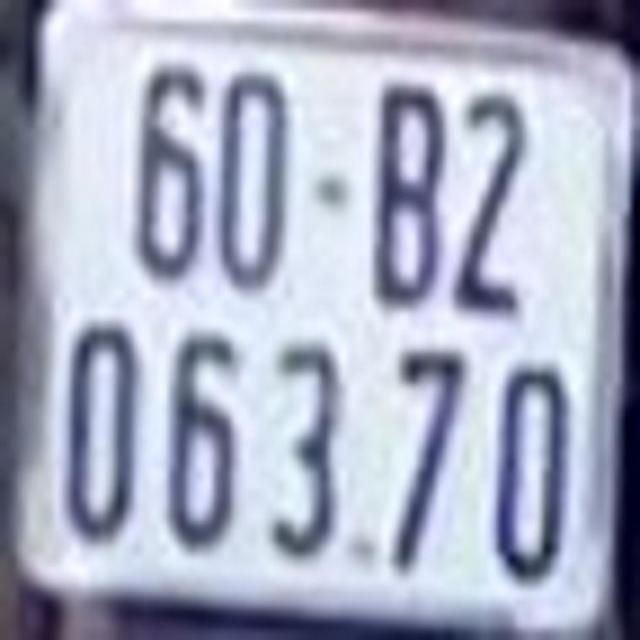0: (491, 350, 568, 586), (60, 314, 136, 549), (212, 59, 286, 296)
2: (455, 73, 529, 321)
3: (264, 322, 339, 567)
6: (163, 322, 240, 556), (128, 54, 206, 284)
7: (393, 322, 467, 569)
B: (368, 75, 444, 306)
